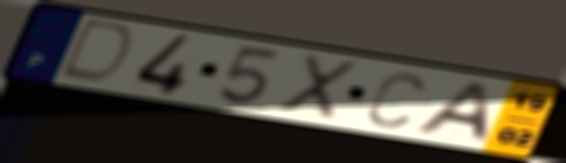4: (131, 32, 197, 99)
5: (216, 43, 284, 106)
A: (408, 80, 493, 146)
C: (363, 70, 428, 130)
D: (53, 16, 140, 87)
X: (272, 51, 363, 124)
